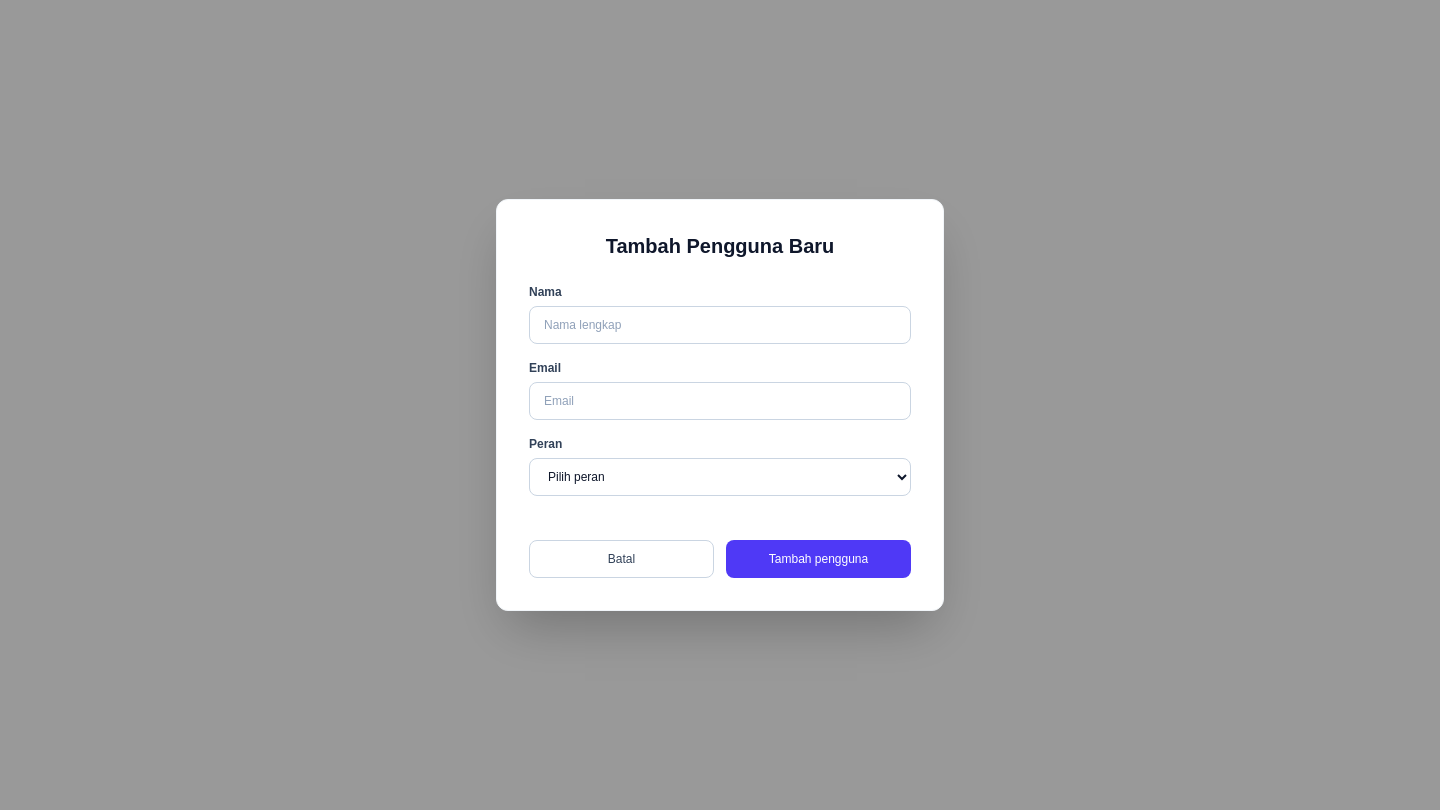
Scenario: CreateUserModal › shows the duplicate email message on 409
Type "Budi Author" into the field labelled "Nama". click: point(720, 325)
box: [529,306,911,344]
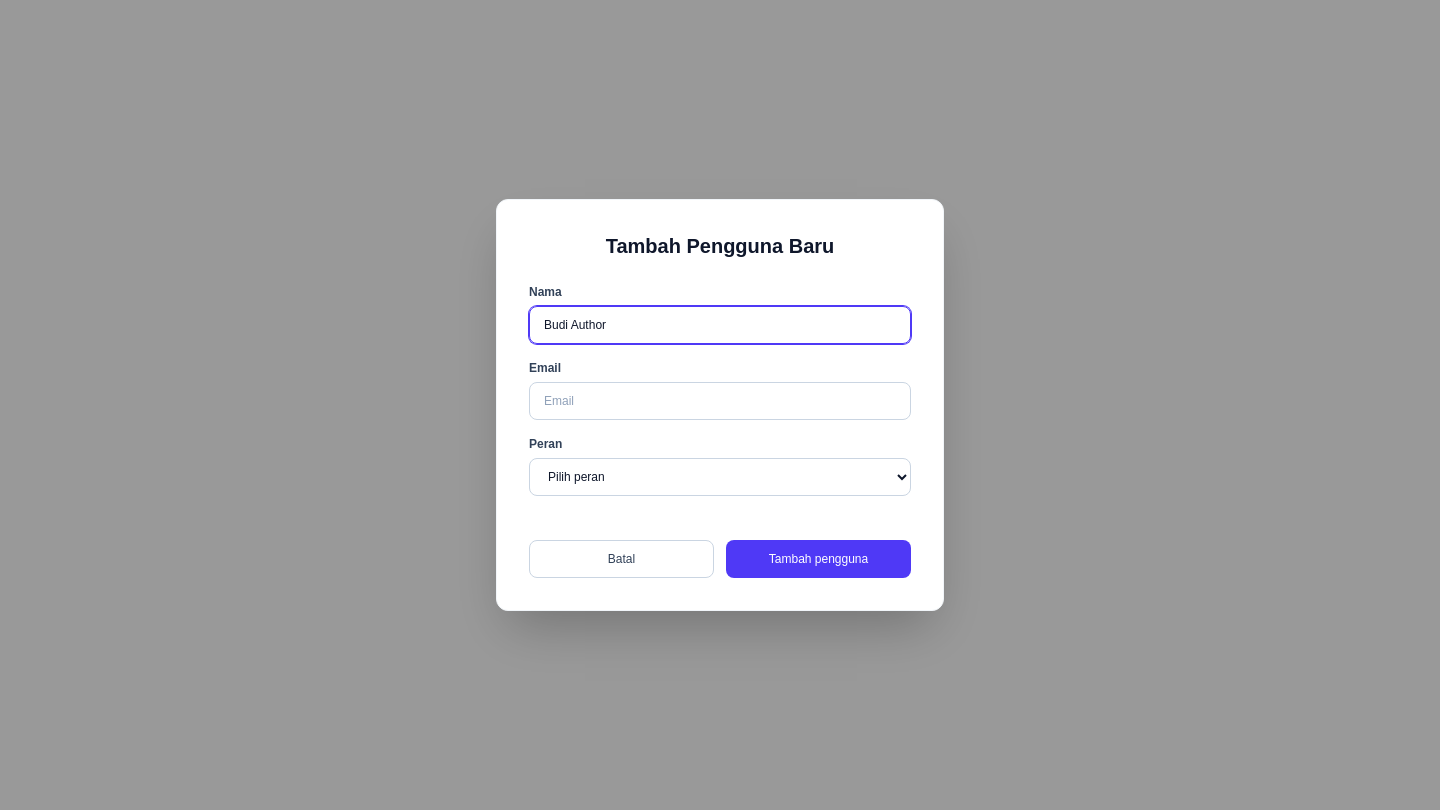
Type "budi@veritask.ai" into the field labelled "Email". click: point(720, 401)
box: [529,382,911,420]
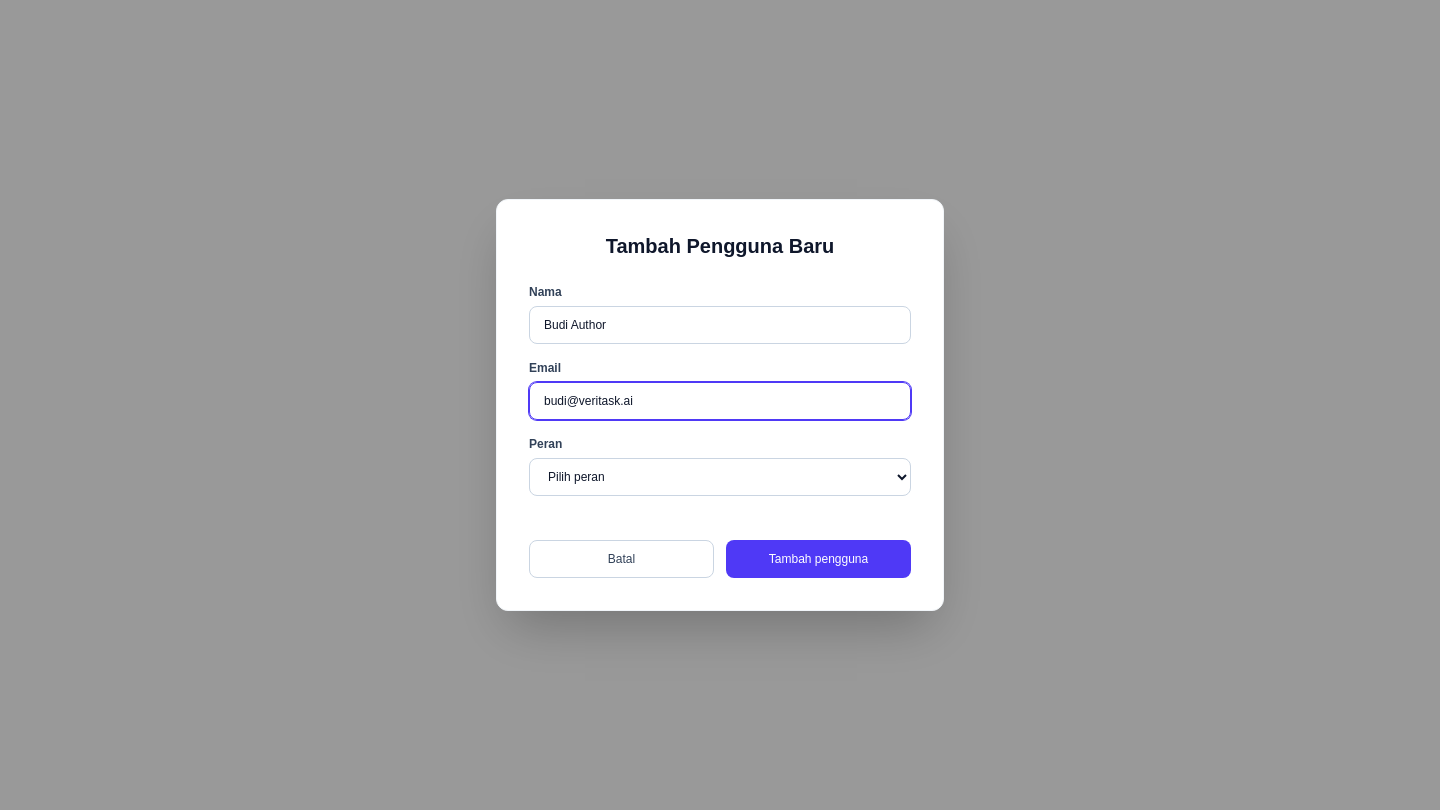
Select "Kontributor" in the dropdown labelled "Peran". click: point(720, 477)
box: [529,458,911,496]
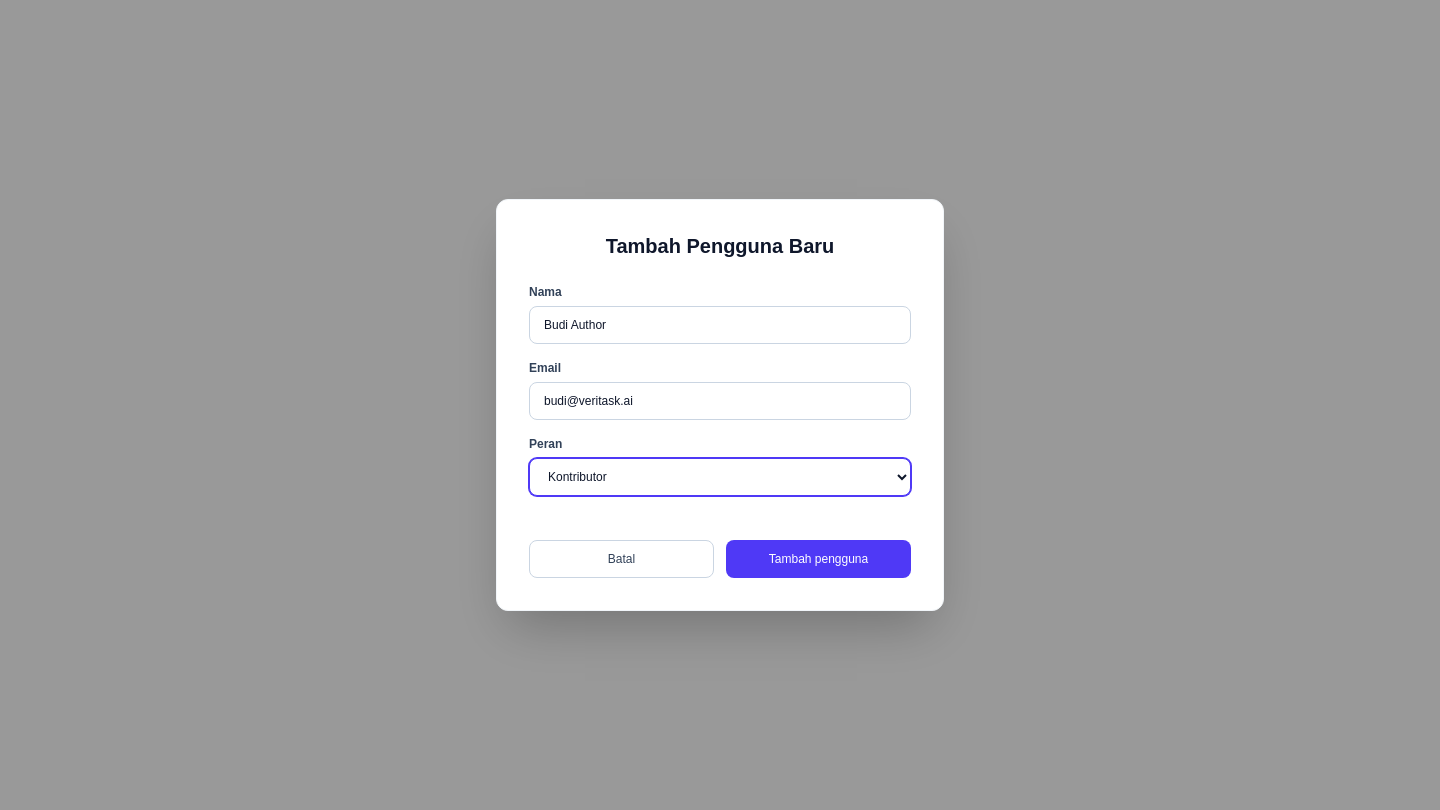
Click the button "Tambah pengguna". click: point(818, 559)
box: [726,540,911,578]
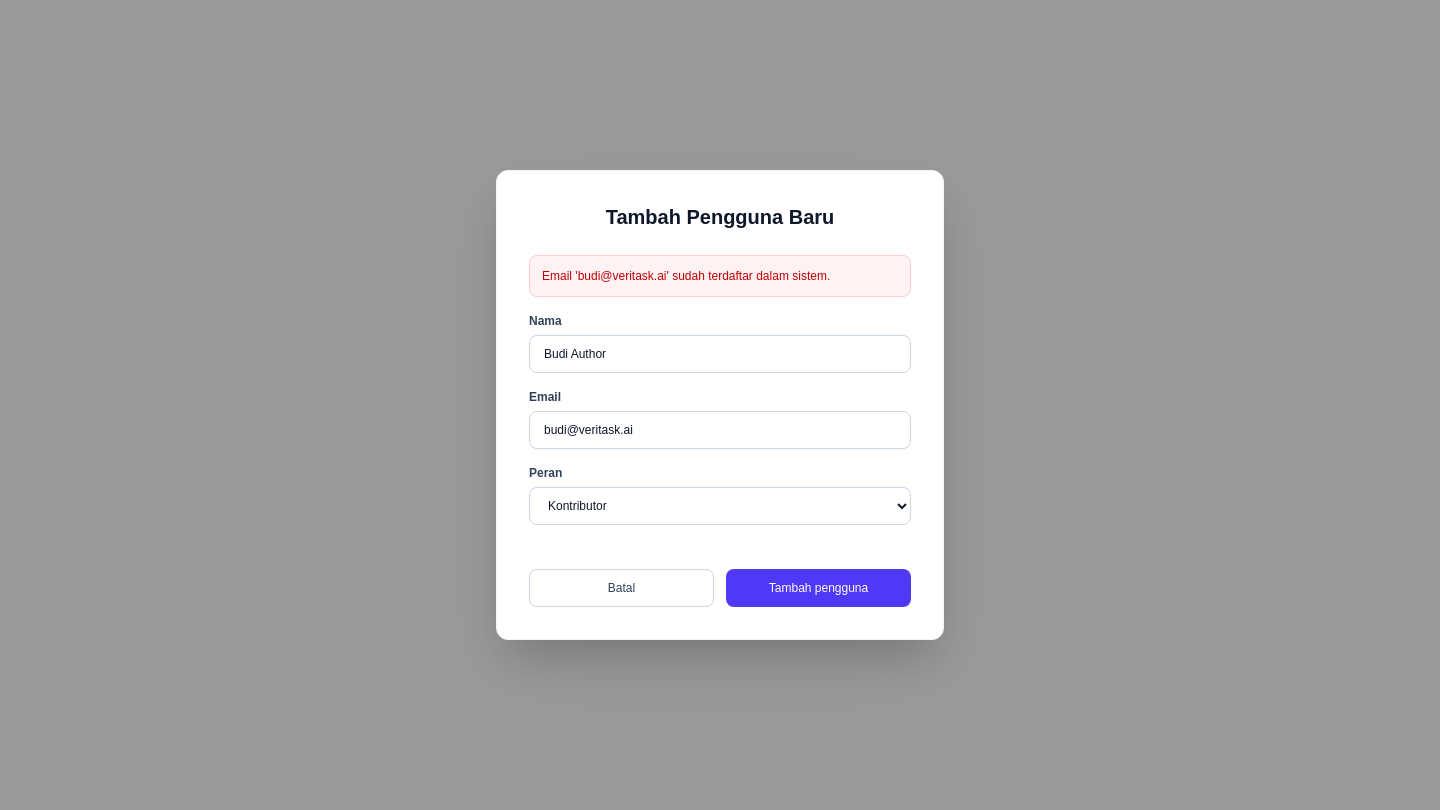
Now the message reads "Email 'budi@veritask.ai' sudah terdaftar dalam sistem.", box [542,269,830,283]
